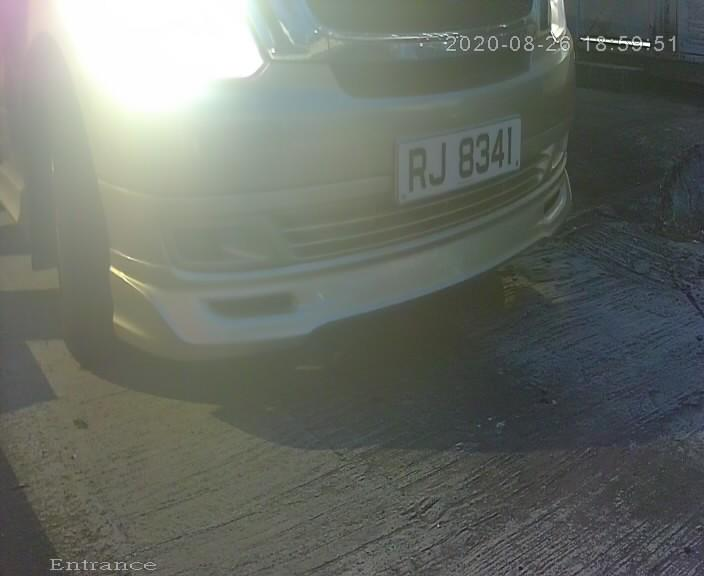License Plate: (384, 98, 535, 211)
